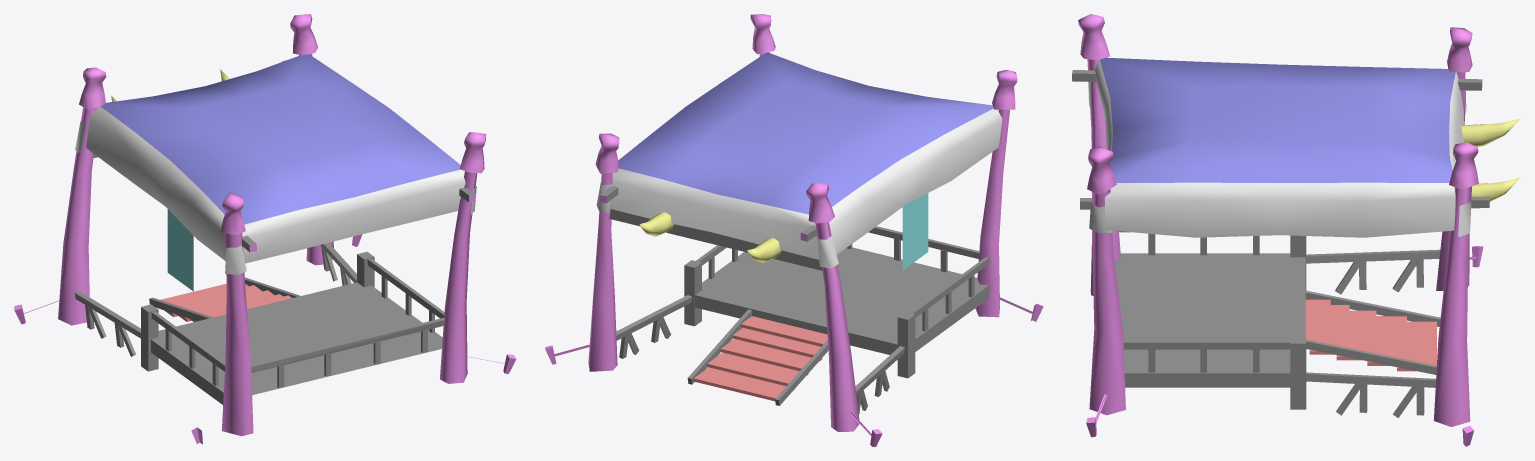
File: pm_landmark_camp03.gltf
3 renders of one model, left to right at view 1: azimuth 30°, elevation 25°; view 2: azimuth 150°, elevation 25°; view 3: azimuth 270°, elevation 25°, orthographic. The views are drawn at different scales.
Parts seen in each view (by area): view 1: pm_landmark_camp03; view 2: pm_landmark_camp03; view 3: pm_landmark_camp03.
Boxes of the visible parts, x1,y1,x2,y2 form: pm_landmark_camp03: [14, 14, 516, 444]; pm_landmark_camp03: [545, 14, 1043, 446]; pm_landmark_camp03: [1072, 14, 1520, 446].
Size of the model in its own units: 3.21 by 2.19 by 3.25.
